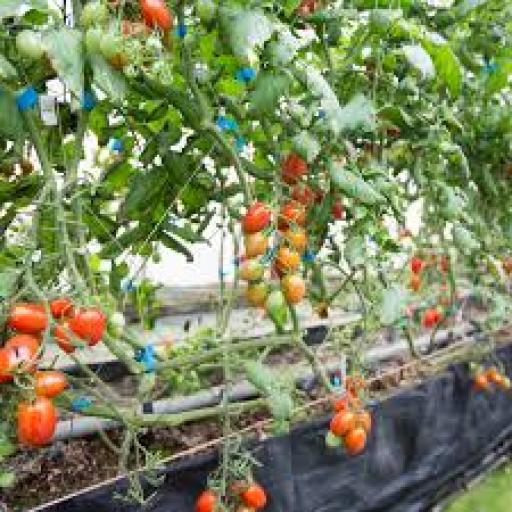tomato: (19, 396, 56, 446), (0, 335, 38, 382), (69, 308, 106, 345), (7, 303, 47, 334), (101, 32, 127, 68), (142, 0, 172, 31), (35, 371, 68, 398), (242, 203, 270, 234), (16, 30, 45, 59), (283, 153, 307, 184), (53, 321, 77, 352), (267, 289, 288, 323), (80, 3, 109, 27), (278, 203, 304, 229), (283, 276, 307, 304), (5, 335, 40, 354), (276, 246, 300, 273), (330, 410, 354, 436), (242, 483, 266, 509), (344, 428, 366, 455), (239, 260, 266, 282), (244, 233, 268, 257), (285, 228, 307, 252), (246, 283, 268, 307), (292, 185, 316, 207), (0, 349, 15, 382), (333, 392, 359, 411), (85, 28, 104, 54), (196, 0, 216, 22), (121, 21, 150, 36), (355, 410, 373, 434), (346, 374, 366, 395), (196, 490, 216, 511), (51, 299, 72, 318), (421, 308, 441, 327), (296, 0, 320, 15), (485, 367, 502, 384), (494, 376, 511, 391), (19, 158, 34, 175), (474, 374, 489, 391), (410, 258, 425, 273), (333, 201, 343, 220), (440, 255, 450, 273), (410, 274, 420, 291), (315, 189, 325, 204), (399, 226, 411, 238), (387, 126, 400, 136), (237, 506, 254, 511)
